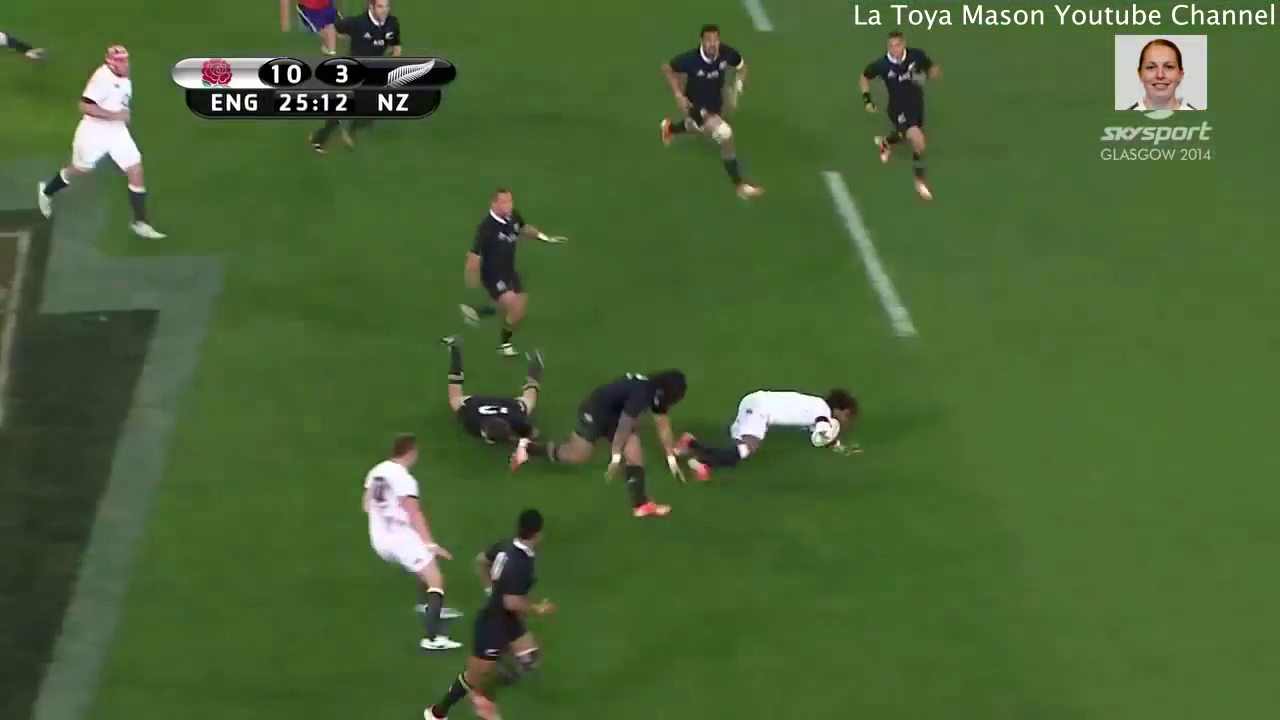ball: (793, 404, 853, 456)
player: (412, 499, 566, 720), (506, 360, 705, 524), (347, 428, 478, 660), (32, 41, 173, 250), (639, 13, 774, 209), (442, 181, 564, 359), (673, 366, 874, 472), (853, 24, 945, 206), (424, 327, 546, 457)
